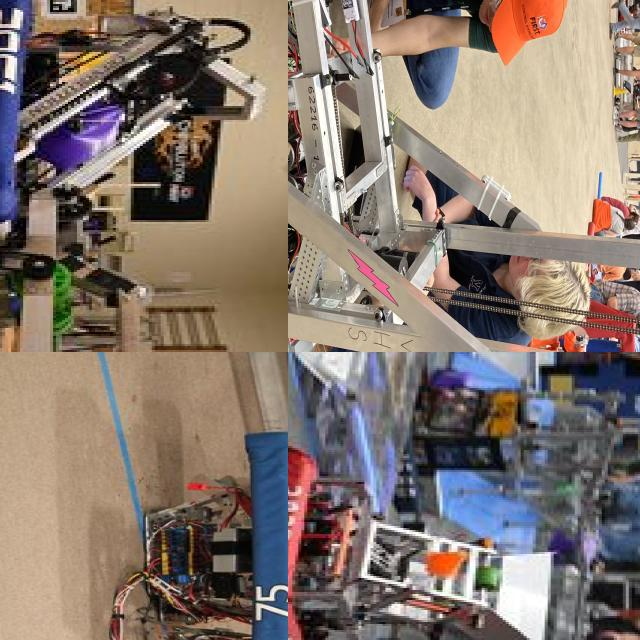FRC-Robots: (288, 0, 640, 352), (0, 0, 286, 352), (69, 391, 288, 640), (288, 483, 588, 640), (373, 392, 640, 489), (288, 352, 565, 410)
